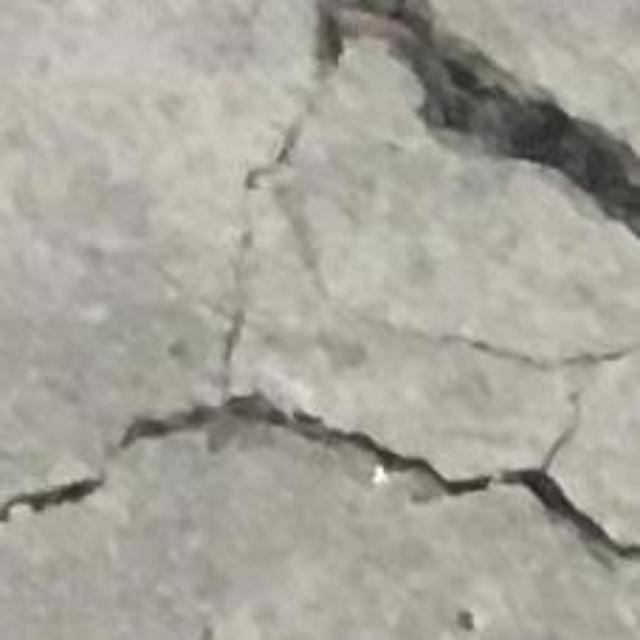crack: (246, 0, 639, 374)
